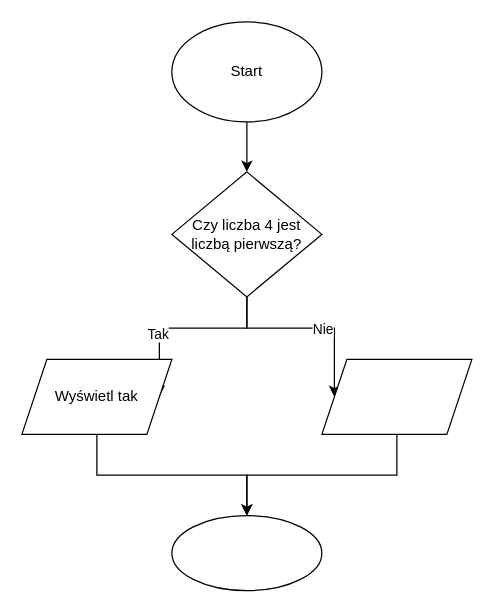
This 494x613 diagram has some shape labels left out. The shapes that lost their labels are listed below. From the top down, each one's box as (x1, y1, x2, y2) in pixels, then its label:
(321, 358, 472, 434): Wyświetl nie
(171, 514, 322, 591): End
